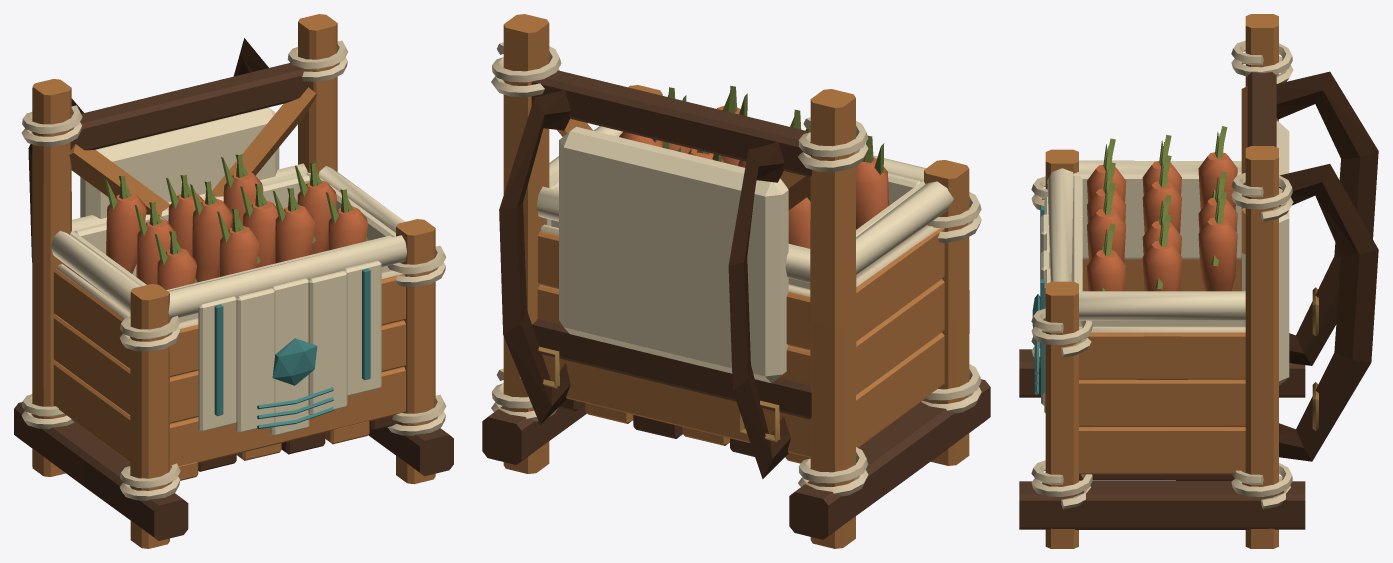
File: prop_trade_pack_carrot_a.glb
3 renders of one model, left to right at view 1: azimuth 30°, elevation 25°; view 2: azimuth 150°, elevation 25°; view 3: azimuth 270°, elevation 25°, orthographic. The views are drawn at different scales.
Visible parts, largest first — view 1: prop_trade_pack_carrot_a_LOD0; view 2: prop_trade_pack_carrot_a_LOD0; view 3: prop_trade_pack_carrot_a_LOD0.
Boxes of the visible parts, <box> form: prop_trade_pack_carrot_a_LOD0: <box>14,14,453,548</box>; prop_trade_pack_carrot_a_LOD0: <box>482,14,990,548</box>; prop_trade_pack_carrot_a_LOD0: <box>1019,14,1378,548</box>.
Size of what is drawn, in the model's own units: 0.8384 by 0.96 by 0.8041.
